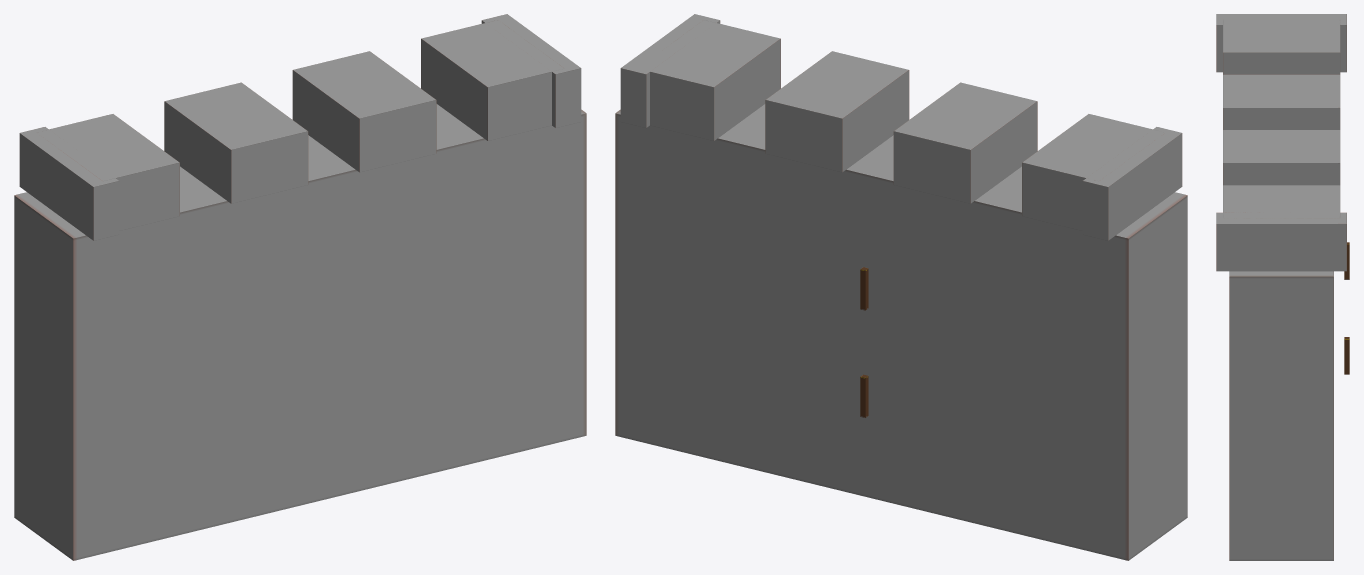
Rendered from Wall.fbx.
The picture shows the model from 3 angles, left to right: view 1: azimuth 30°, elevation 25°; view 2: azimuth 150°, elevation 25°; view 3: azimuth 270°, elevation 25°; orthographic projection. The views are drawn at different scales.
Parts seen in each view (by area): view 1: Wall; view 2: Wall; view 3: Wall.
Boxes of the visible parts, x1,y1,x2,y2 form: Wall: [14, 14, 586, 560]; Wall: [615, 14, 1187, 560]; Wall: [1216, 14, 1349, 560].
Size of the model in its own units: 200 by 140 by 51.
1 material, 1 textured.
